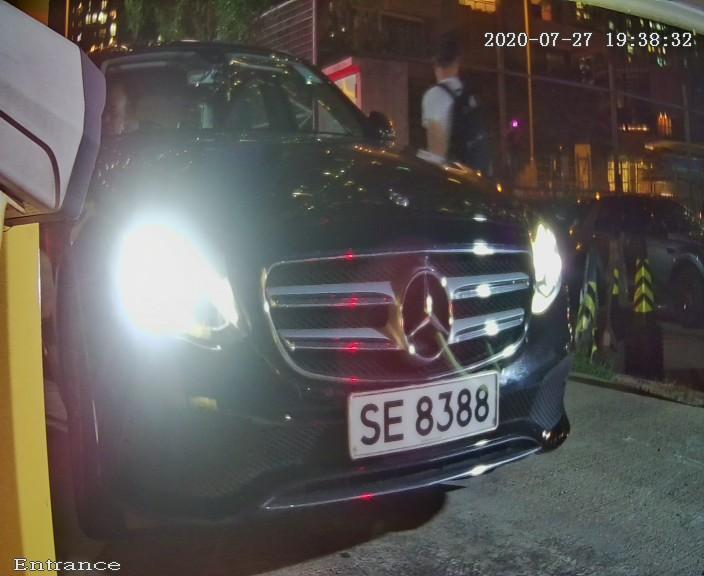privatecar: (63, 11, 576, 548)
